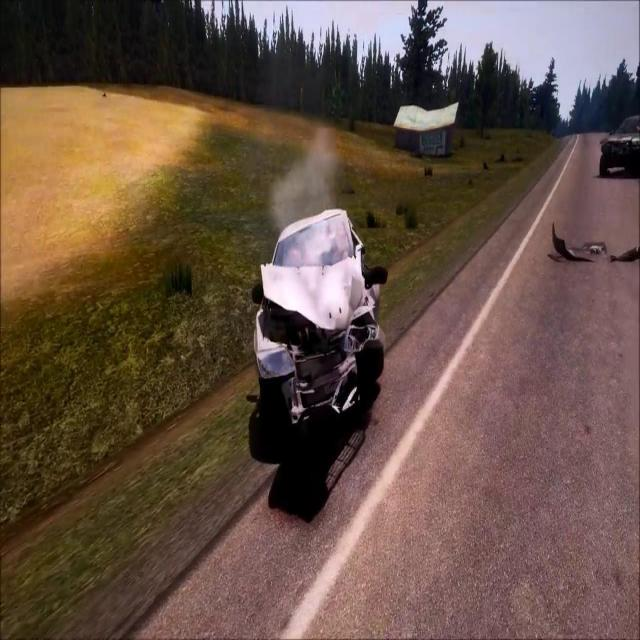accident: (250, 198, 390, 452)
